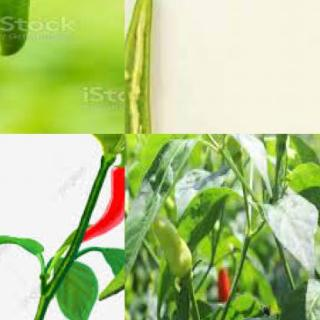green_chilli: (125, 0, 156, 133), (154, 216, 194, 281), (96, 211, 124, 303)
